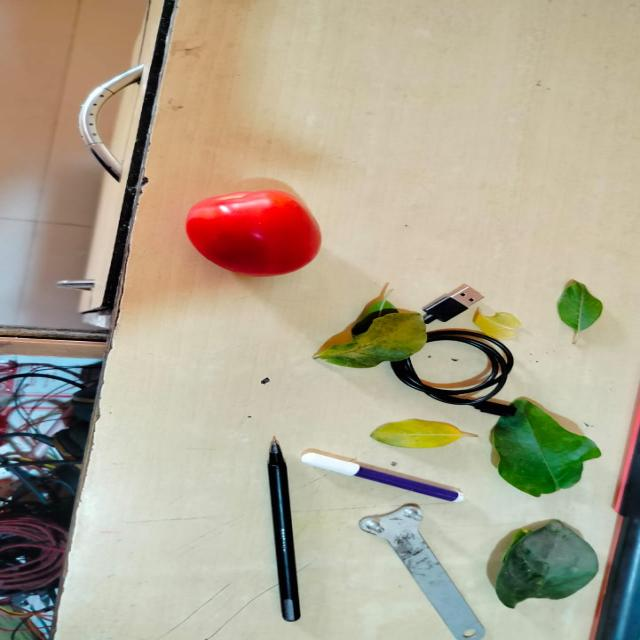Leaves: (488, 399, 603, 499), (486, 519, 598, 611), (312, 294, 428, 372), (368, 419, 480, 452), (557, 281, 602, 344), (474, 308, 532, 344)
Metal: (357, 506, 487, 640)
Pen: (296, 450, 463, 506), (267, 436, 302, 626)
cable: (393, 288, 511, 408)
tomato: (185, 181, 323, 282)
